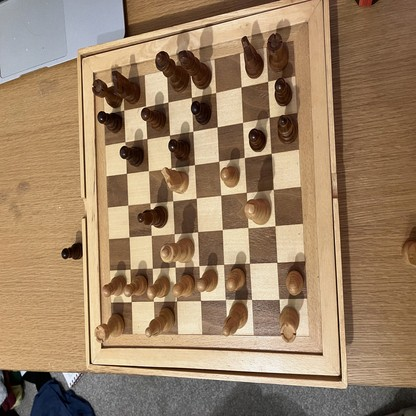bishop_black: (137, 207, 167, 229), (278, 115, 297, 144)
bishop_white: (222, 302, 248, 337), (145, 309, 176, 337)
king_black: (179, 50, 212, 89)
king_white: (243, 199, 271, 225)
knight_black: (242, 37, 264, 79), (112, 72, 141, 103)
knight_white: (161, 167, 189, 194)
pawn_black: (97, 111, 123, 134), (141, 108, 166, 129), (274, 79, 293, 105), (168, 139, 190, 161), (191, 102, 212, 125), (119, 147, 143, 166), (249, 128, 267, 152), (61, 244, 83, 260)
pawn_white: (173, 274, 195, 297), (103, 274, 126, 296), (124, 275, 148, 296), (196, 270, 218, 292), (220, 166, 241, 187), (147, 277, 169, 297), (226, 269, 244, 291), (287, 271, 303, 295)
queen_black: (156, 51, 188, 93)
queen_white: (161, 238, 194, 263)
rock_black: (92, 79, 122, 109), (268, 35, 289, 69)
rock_white: (94, 314, 125, 342), (280, 306, 300, 342)
